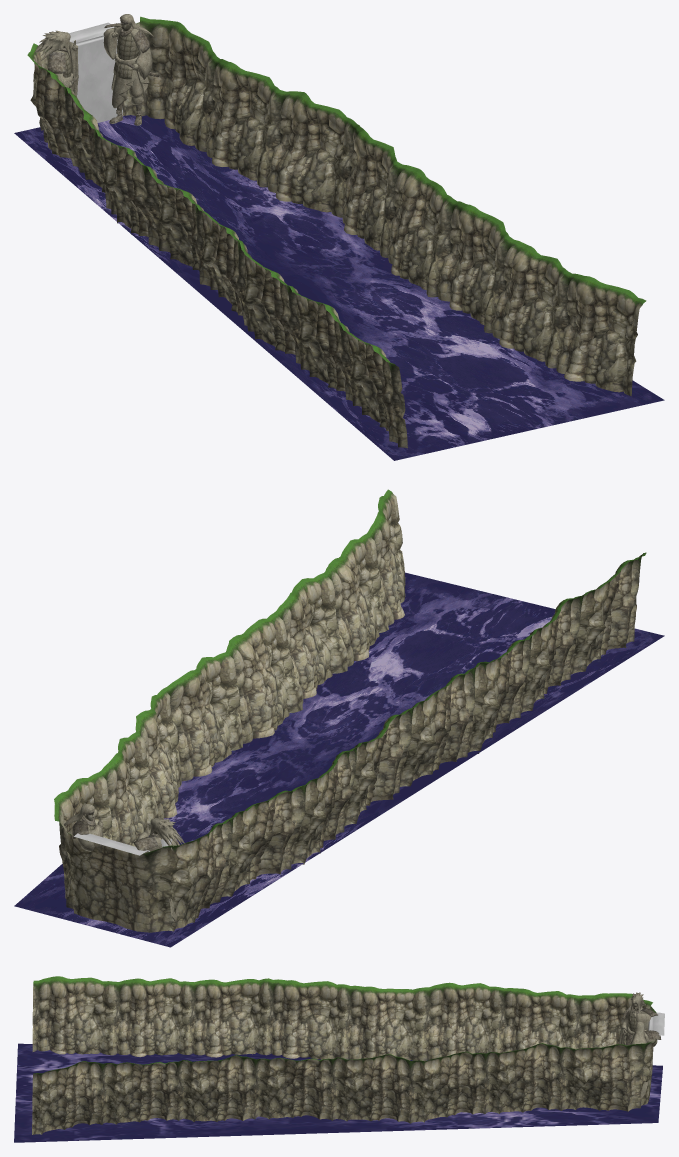
The model's file is gate.glb.
The picture shows the model from 3 angles, top to bottom: view 1: azimuth 30°, elevation 25°; view 2: azimuth 150°, elevation 25°; view 3: azimuth 270°, elevation 25°; orthographic projection. The views are drawn at different scales.
Visible parts, largest first — view 1: 40_Cliff_0.1_0_0, Plane, Plane.001, Material.012, Material.014, Material.018, Material.020; view 2: 40_Cliff_0.1_0_0, Plane, Material.014; view 3: 40_Cliff_0.1_0_0, Plane, Material.014, Material.012, Plane.001, Material.020.
Part boxes in pixels (x1,y1,x2,y2): 40_Cliff_0.1_0_0: (27, 16, 646, 448); Plane: (14, 115, 664, 460); Plane.001: (69, 22, 122, 122); Material.012: (48, 26, 152, 96); Material.014: (34, 14, 154, 104); Material.018: (39, 70, 149, 130); Material.020: (48, 23, 150, 73); 40_Cliff_0.1_0_0: (54, 489, 646, 932); Plane: (14, 572, 664, 947); Material.014: (62, 804, 184, 850); 40_Cliff_0.1_0_0: (32, 976, 656, 1134); Plane: (14, 1043, 662, 1142); Material.014: (630, 992, 646, 1048); Material.012: (619, 1007, 657, 1046); Plane.001: (648, 1012, 664, 1035); Material.020: (622, 1006, 661, 1045).
Size of the model in its own units: 20.13 by 7.89 by 57.01.
Materials: 16 (15 with a texture image).
